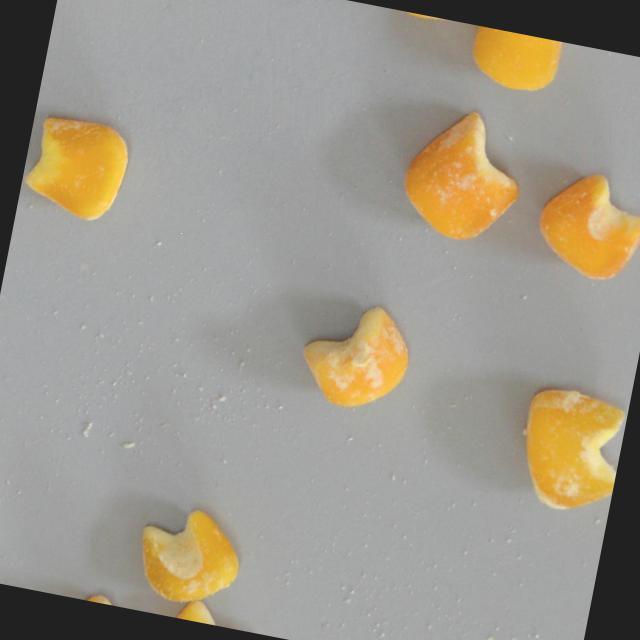no_canjicado: (464, 24, 561, 97), (164, 593, 262, 634)
pelicula: (392, 99, 530, 249), (505, 382, 630, 523), (290, 292, 419, 420), (125, 498, 246, 614), (18, 109, 133, 228), (529, 164, 640, 286)
